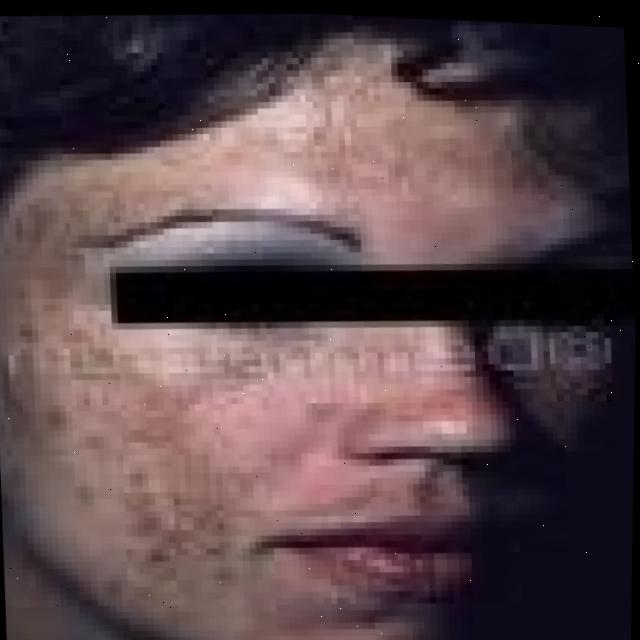Melasma: (136, 372, 266, 598)
